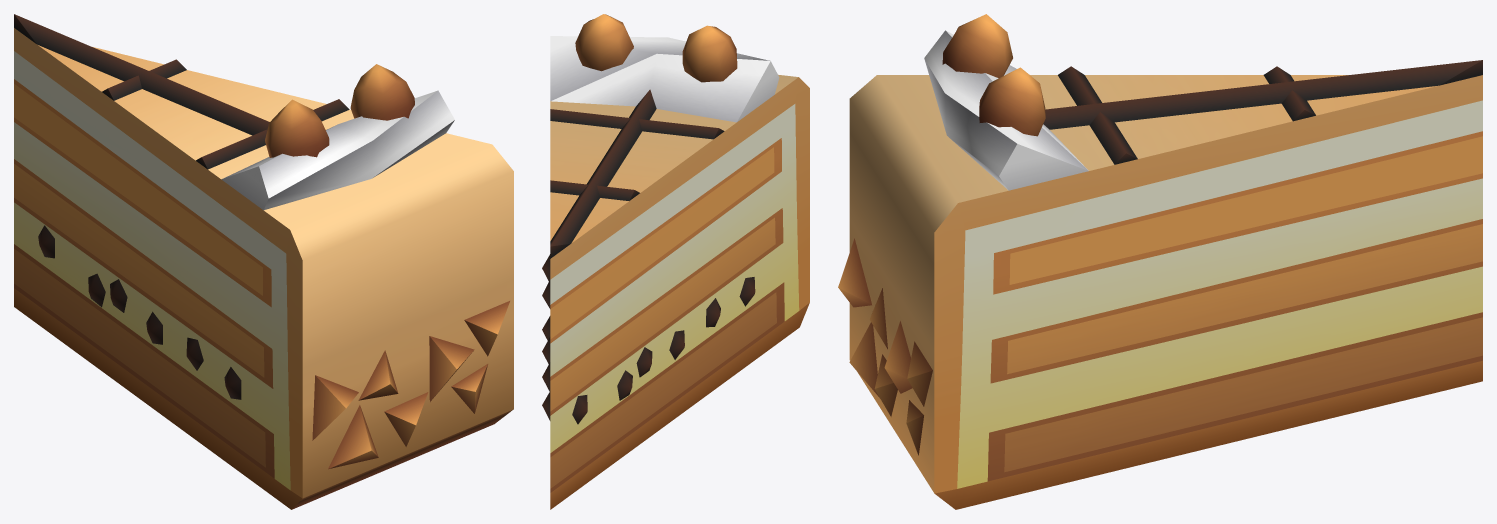
Rendered from m_MarzipanCake01_Slice02.fbx.
3 renders of one model, left to right at view 1: azimuth 30°, elevation 25°; view 2: azimuth 150°, elevation 25°; view 3: azimuth 270°, elevation 25°, orthographic. The views are drawn at different scales.
Parts seen in each view (by area): view 1: m_MarzipanCake01_Slice02; view 2: m_MarzipanCake01_Slice02; view 3: m_MarzipanCake01_Slice02.
Part boxes in pixels (x1,y1,x2,y2): m_MarzipanCake01_Slice02: (14,14,513,509); m_MarzipanCake01_Slice02: (542,14,809,509); m_MarzipanCake01_Slice02: (838,14,1482,509).
Bounding box in the file's own units: 7.23 × 9.64 × 14.26.
